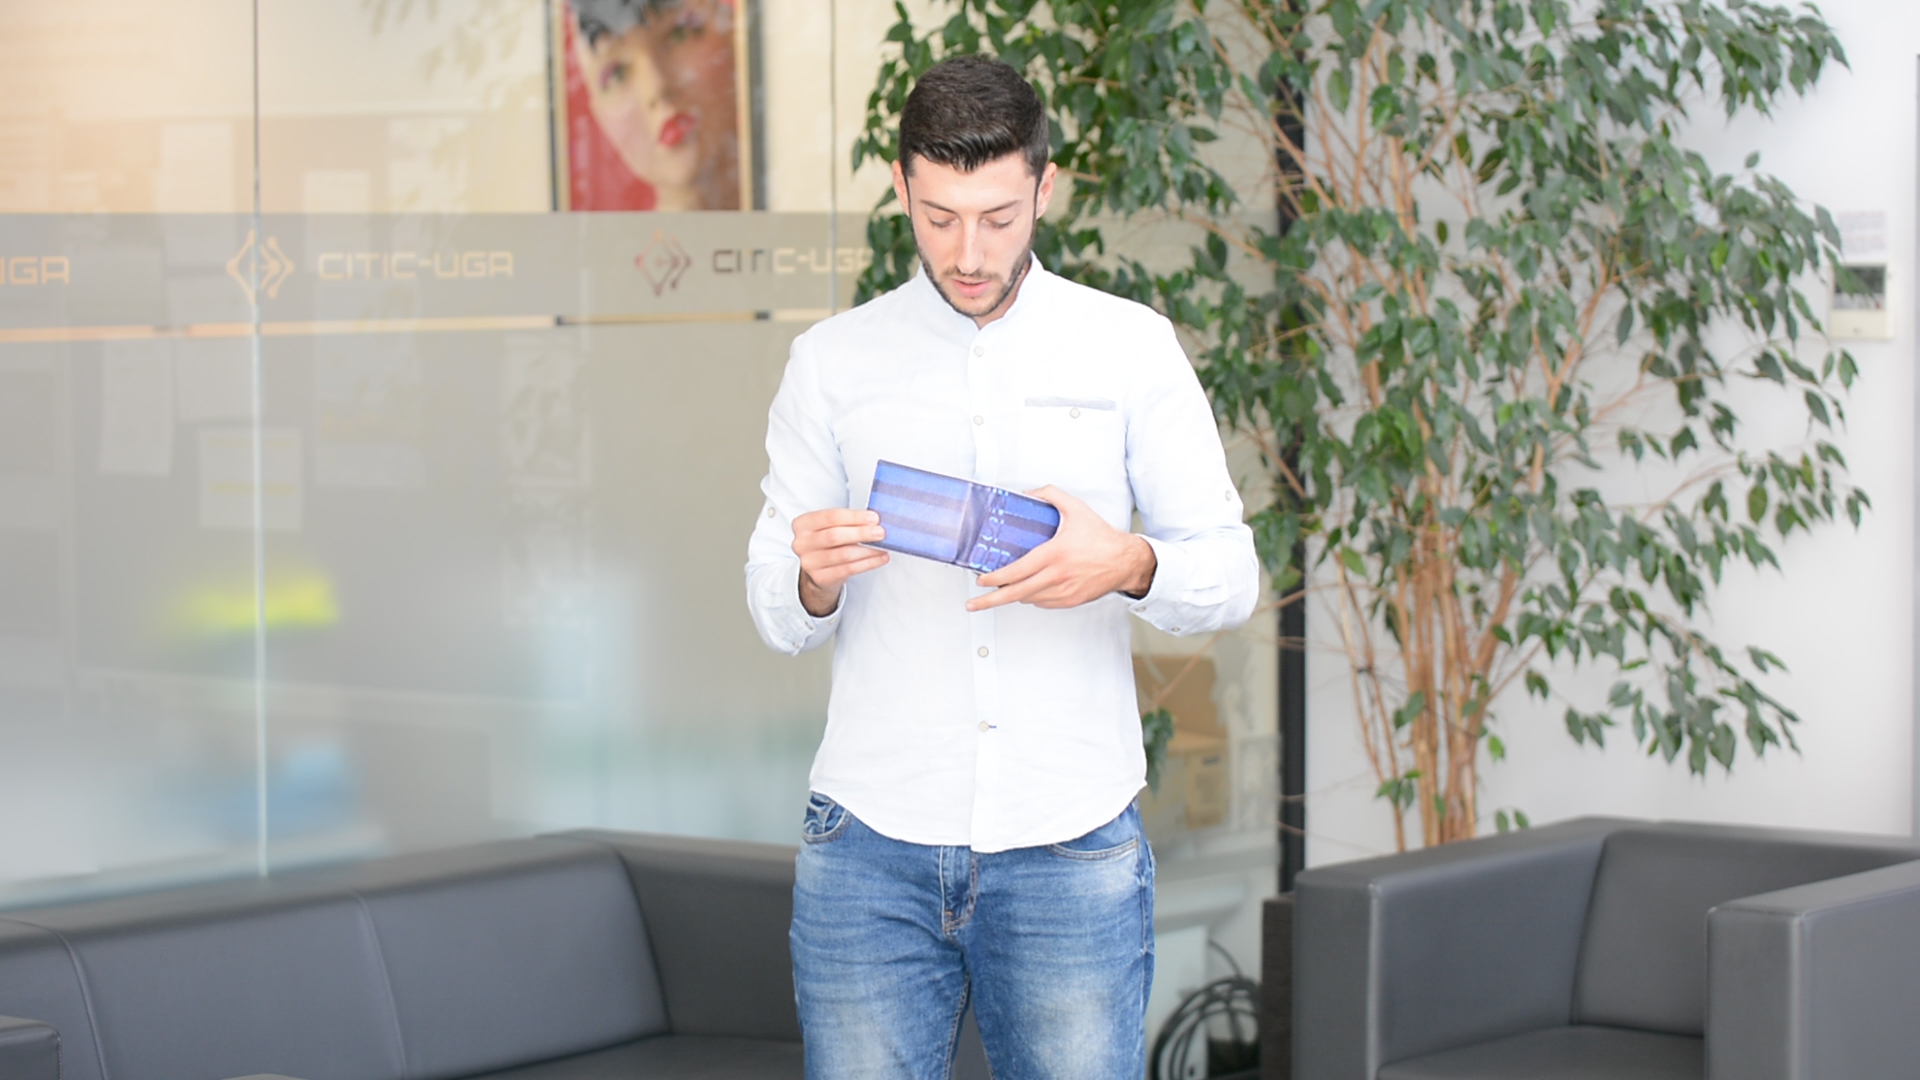monedero: (858, 458, 1062, 574)
